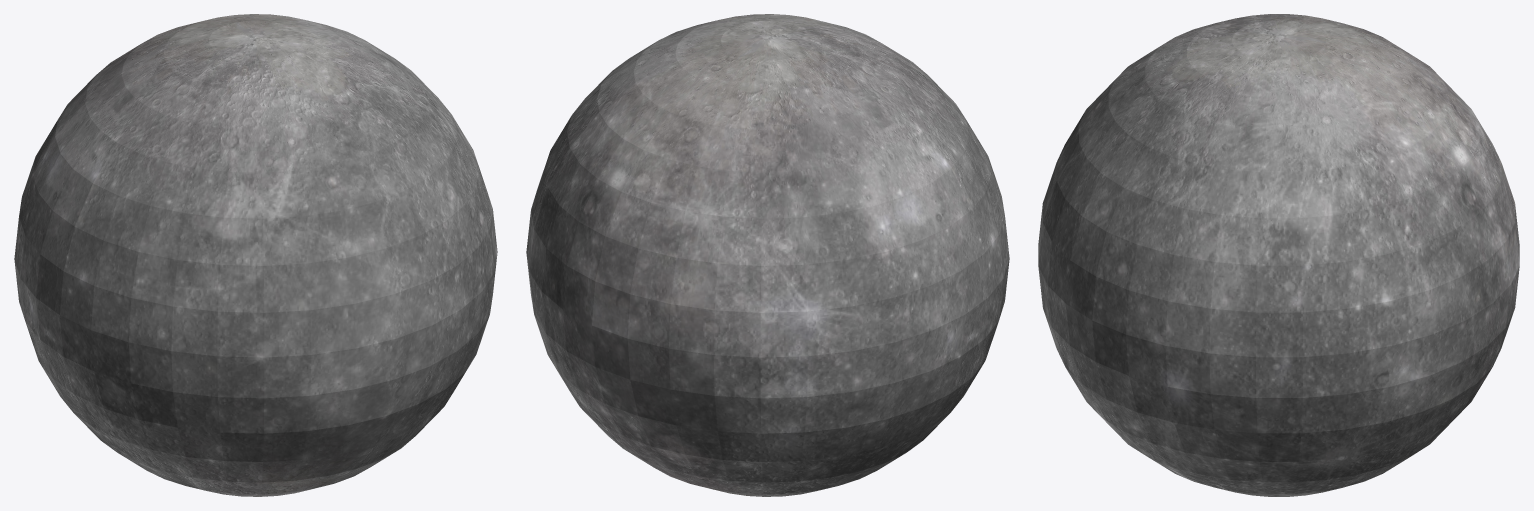
Rendered from p_mercury.fbx.
3 views of the same model, side by side, from view 1: azimuth 30°, elevation 25°; view 2: azimuth 150°, elevation 25°; view 3: azimuth 270°, elevation 25° (orthographic).
Parts seen in each view (by area): view 1: Merkur; view 2: Merkur; view 3: Merkur.
Boxes of the visible parts, x1,y1,x2,y2 form: Merkur: [14, 14, 497, 496]; Merkur: [526, 14, 1009, 496]; Merkur: [1038, 14, 1519, 496].
Size of the model in its own units: 179 by 180 by 179.
